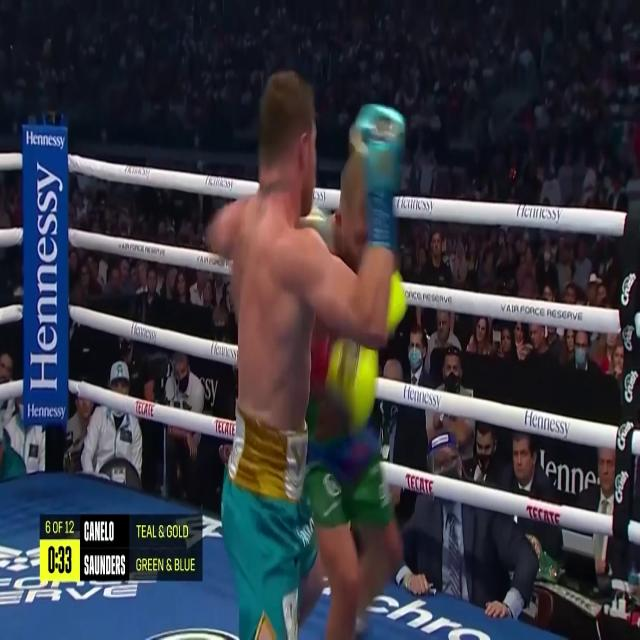boxer_1: (319, 152, 368, 274)
boxer_2: (238, 71, 316, 431)
gloves_1: (310, 332, 379, 428), (387, 271, 407, 334)
gloves_2: (349, 104, 405, 249)
